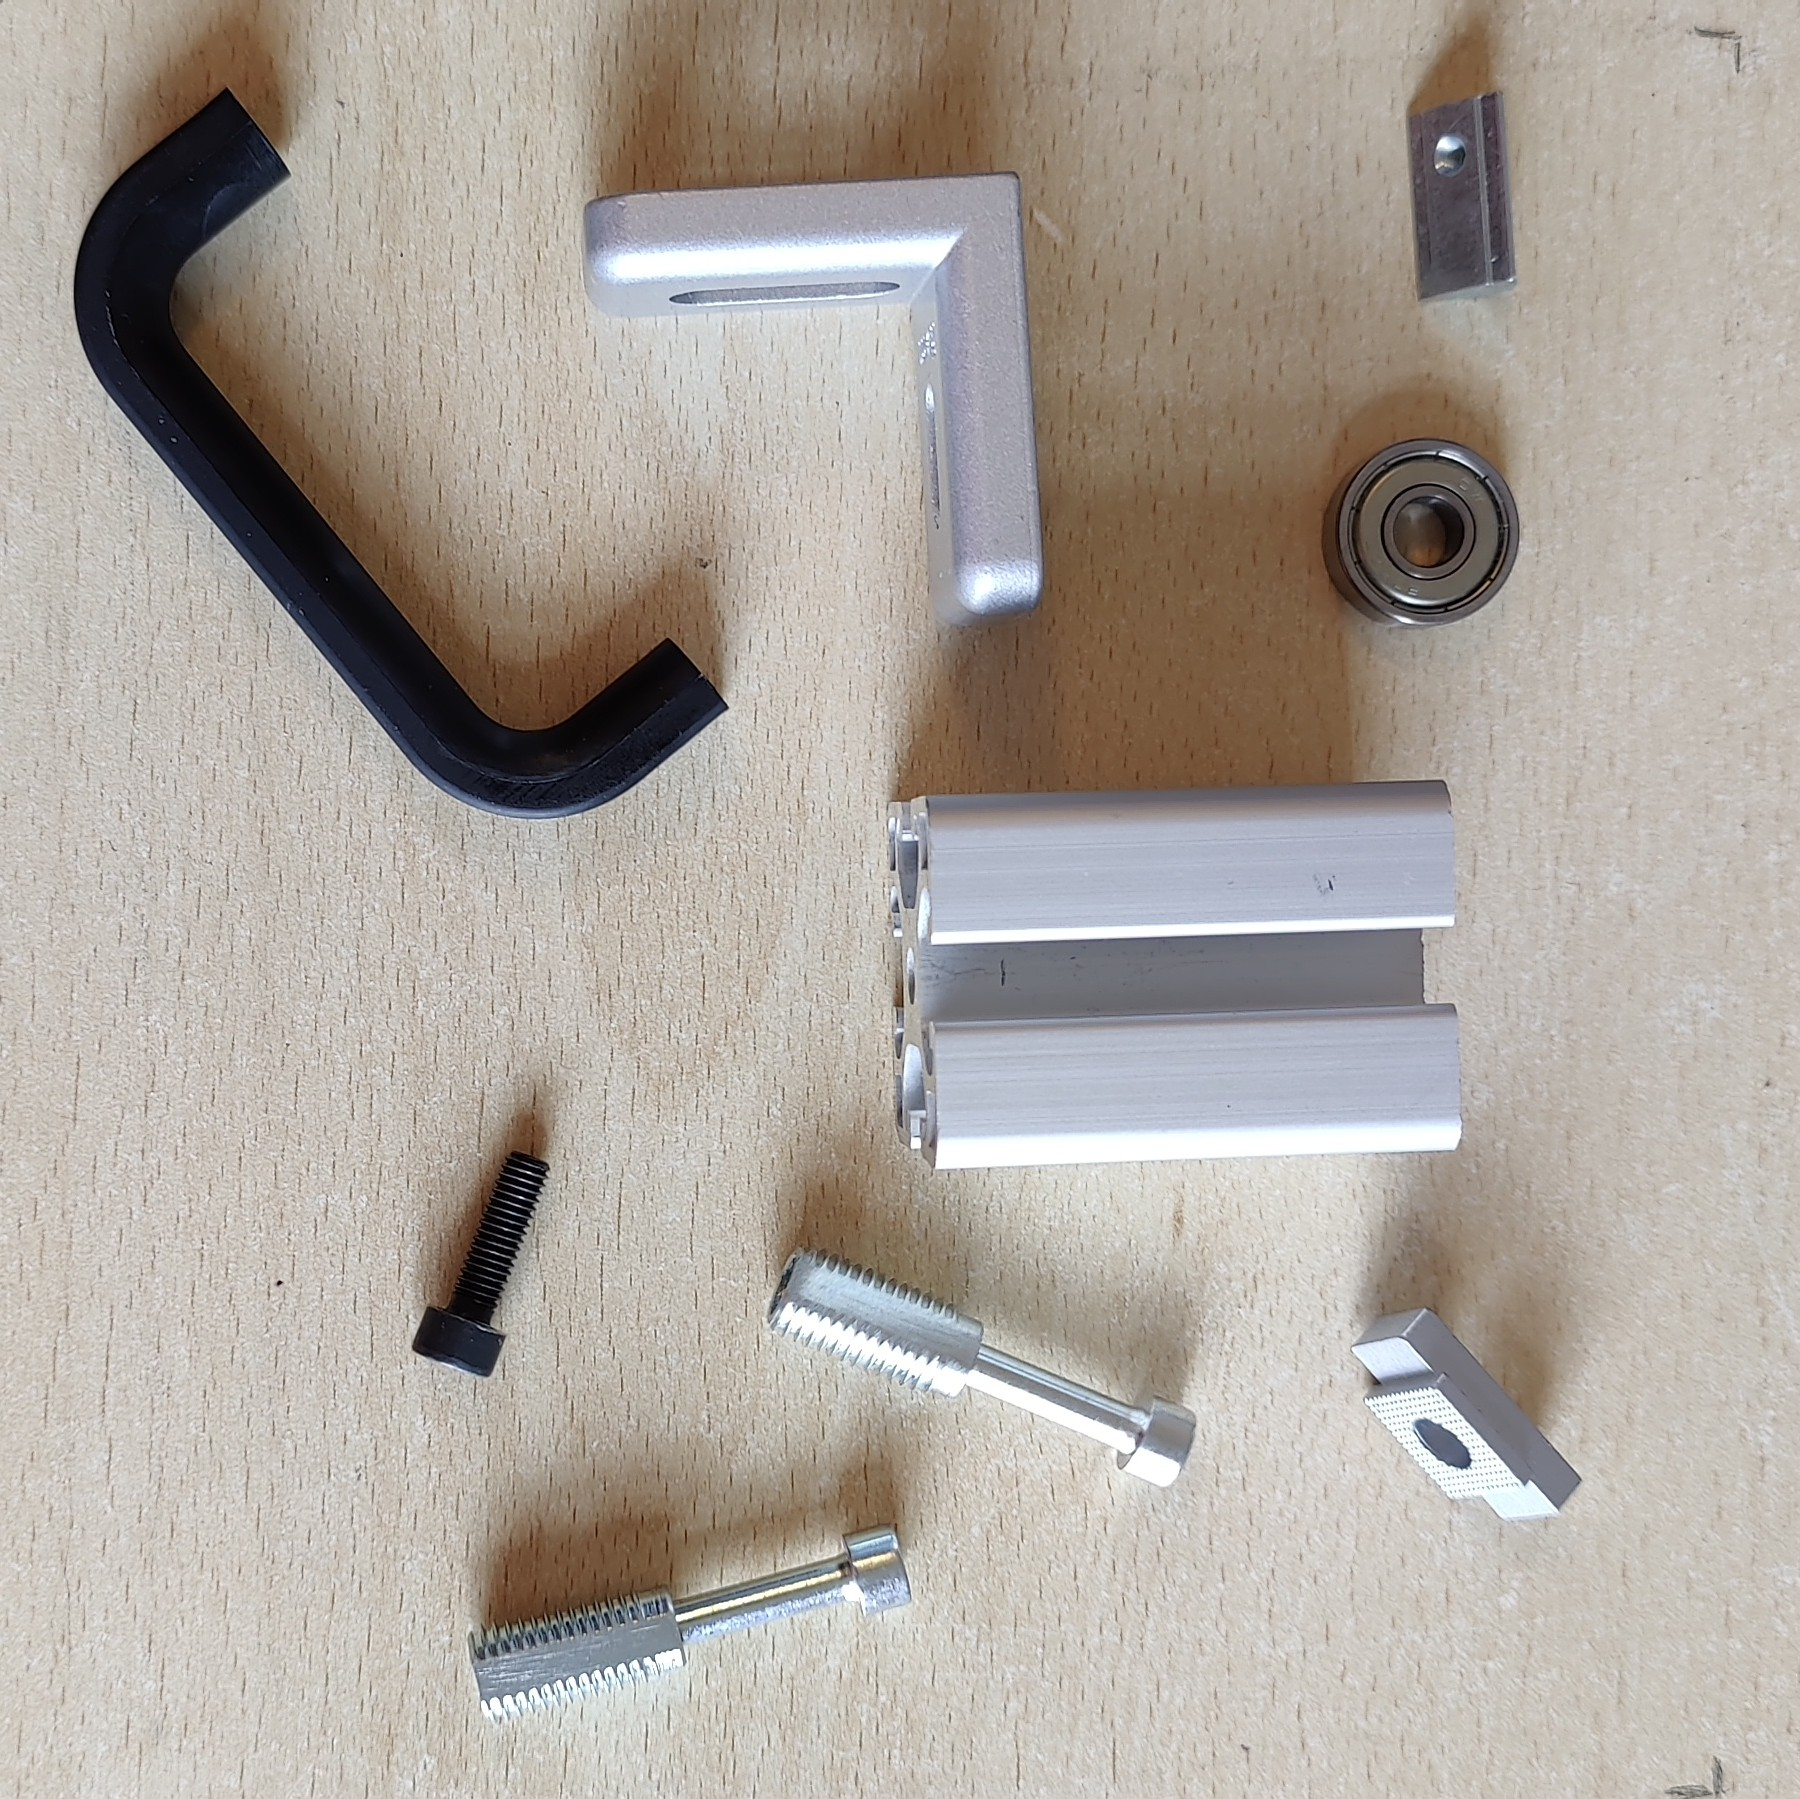Aluminium Extension: (879, 776, 1466, 1176)
Ball Bearing: (1319, 433, 1520, 631)
Multiwinkel: (581, 170, 1051, 634)
Pull Handle: (71, 77, 731, 822)
Shoulder Socket Head Cap Screw: (767, 1241, 1201, 1493), (466, 1521, 916, 1730)
Socket Head Cap Screw: (408, 1145, 552, 1379)
T Nut Square: (1349, 1303, 1584, 1522)
T Spring Nut: (1401, 91, 1520, 308)
